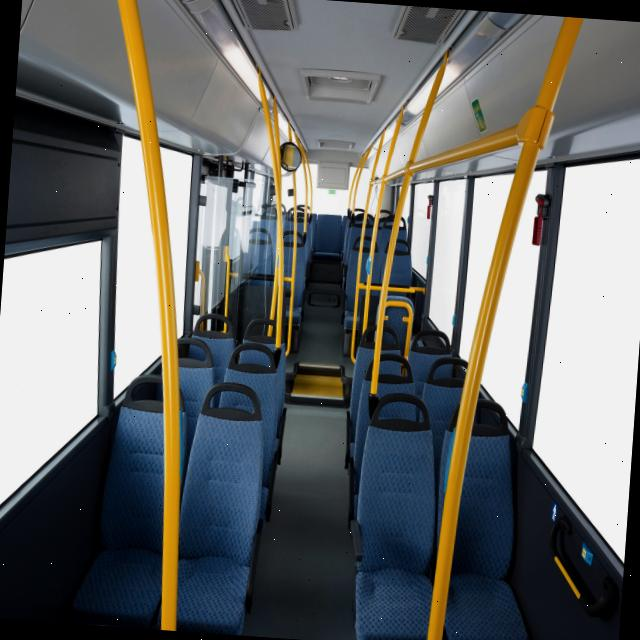empty-seat-frontal: (66, 368, 192, 630), (423, 393, 546, 640), (156, 376, 270, 636), (344, 388, 459, 640)
